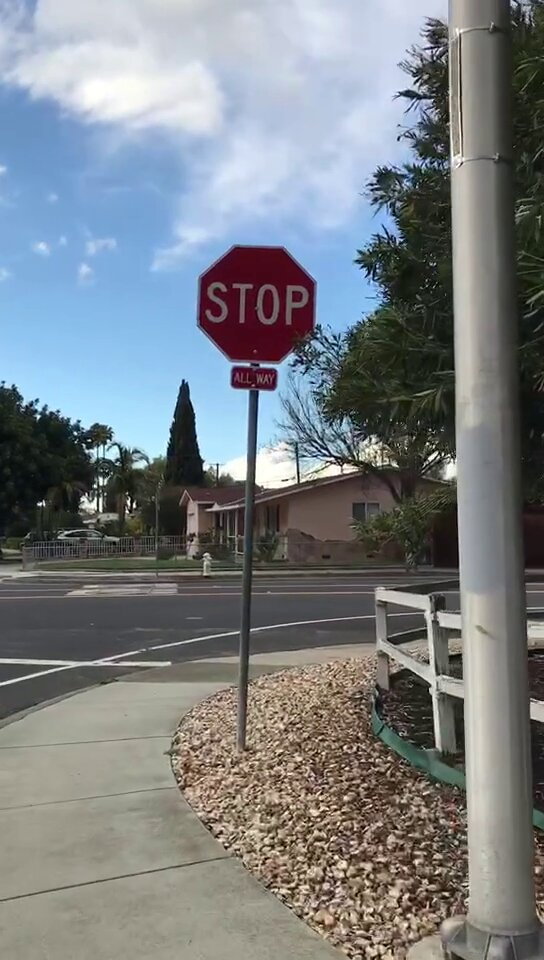stop_sign: (198, 246, 315, 363)
